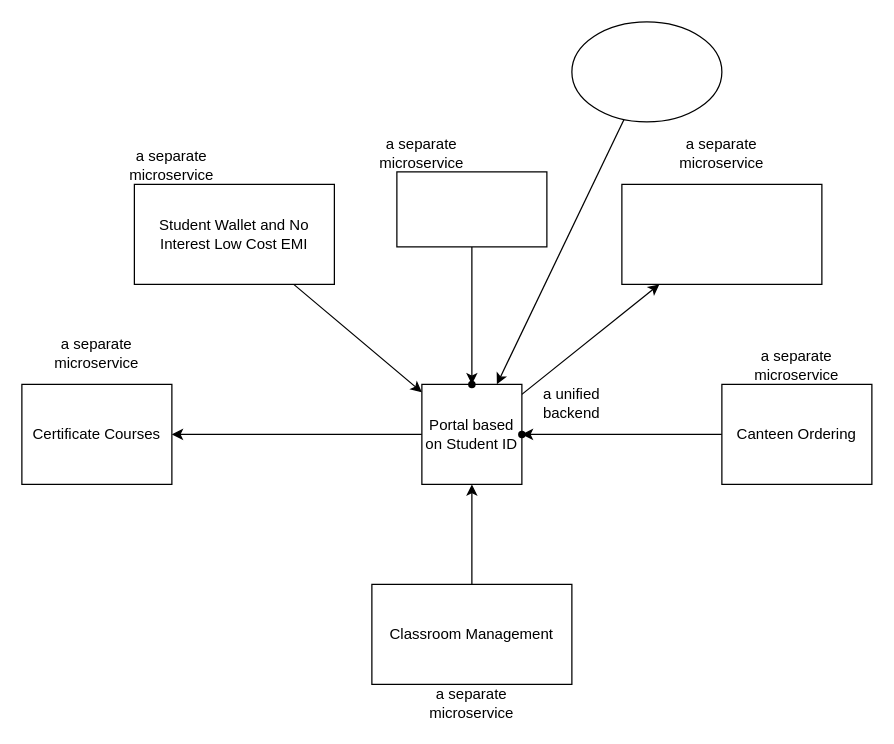
The diagram is 894 pixels wide and 744 high, and some of its shapes have lost their labels. Each missing label, with the centre of its shape:
"LinkedIn Social Media App" belongs at point (471, 209).
"Student Loans, Scholarships and Lending Platform" belongs at point (721, 233).
"VC Project Fund" belongs at point (646, 71).
